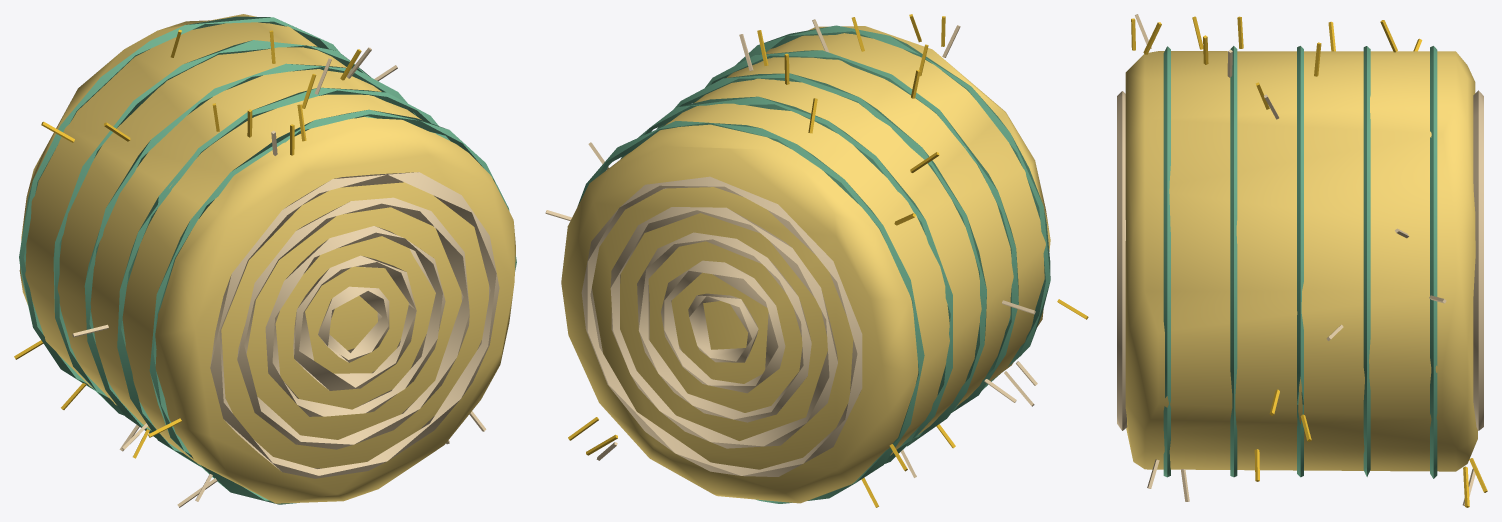
Rendered from hay_bale.glb.
3 renders of one model, left to right at view 1: azimuth 30°, elevation 25°; view 2: azimuth 150°, elevation 25°; view 3: azimuth 270°, elevation 25°, orthographic. The views are drawn at different scales.
Visible parts, largest first — view 1: hay_bale; view 2: hay_bale; view 3: hay_bale.
Part boxes in pixels (x1,y1,x2,y2): hay_bale: (14,14,516,507); hay_bale: (545,14,1088,507); hay_bale: (1117,14,1487,507).
Bounding box in the file's own units: 1.7 × 1.56 × 1.25.
1 material, 1 textured.
